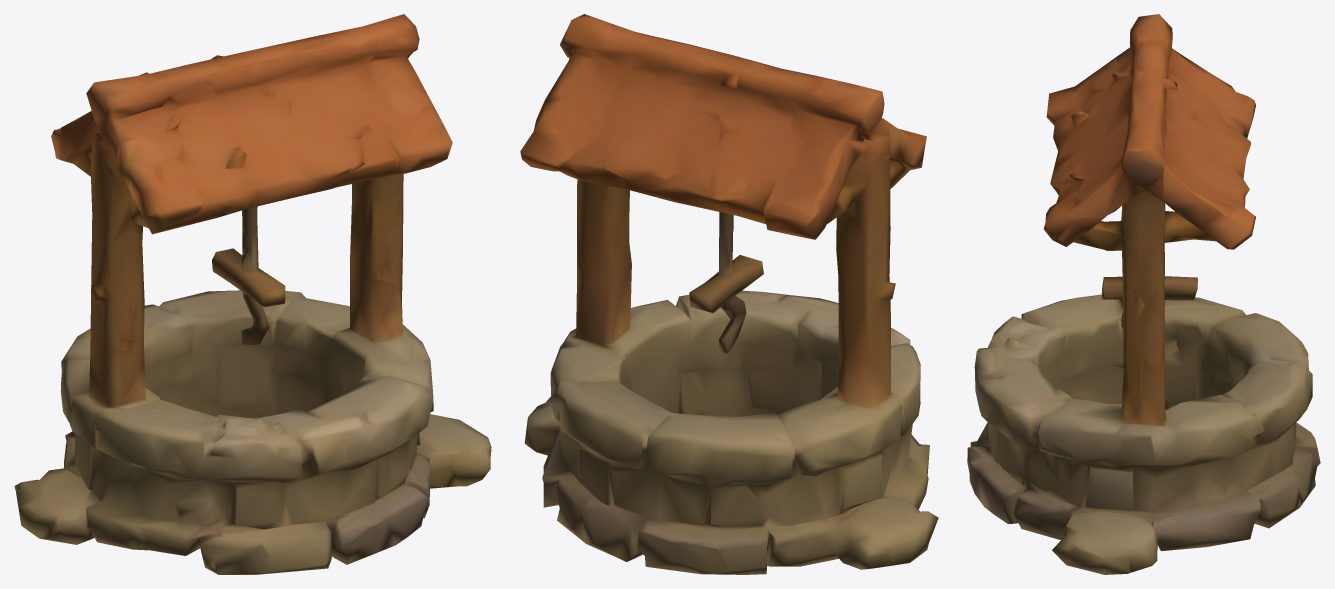
Rendered from tripo_covered_well.glb.
3 renders of one model, left to right at view 1: azimuth 30°, elevation 25°; view 2: azimuth 150°, elevation 25°; view 3: azimuth 270°, elevation 25°, orthographic. The views are drawn at different scales.
Parts seen in each view (by area): view 1: covered_well; view 2: covered_well; view 3: covered_well.
Boxes of the visible parts, x1,y1,x2,y2 form: covered_well: [14, 14, 491, 574]; covered_well: [520, 14, 938, 574]; covered_well: [967, 14, 1320, 574].
Size of the model in its own units: 3.51 by 3.5 by 2.78.
1 material, 1 textured.
